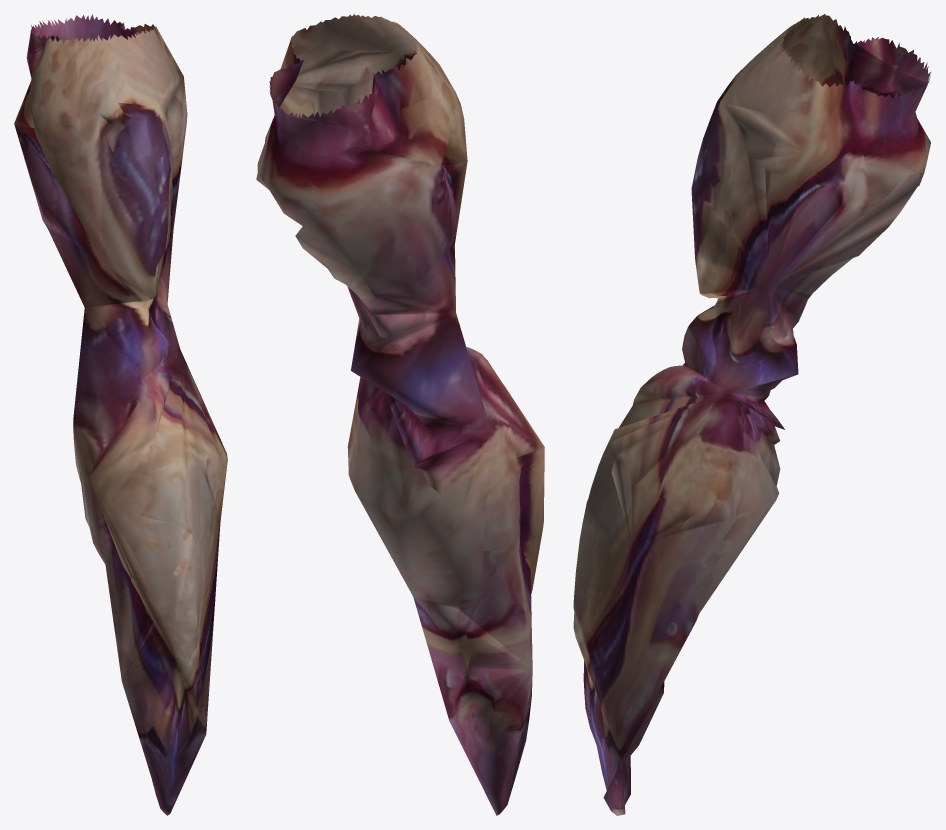
File: Alien_PataFrente.obj
The picture shows the model from 3 angles, left to right: view 1: azimuth 30°, elevation 25°; view 2: azimuth 150°, elevation 25°; view 3: azimuth 270°, elevation 25°; orthographic projection. The views are drawn at different scales.
Parts seen in each view (by area): view 1: PataFrente; view 2: PataFrente; view 3: PataFrente.
Part boxes in pixels (x1,y1,x2,y2): PataFrente: [14, 14, 227, 815]; PataFrente: [256, 14, 544, 815]; PataFrente: [573, 14, 930, 815].
Bounding box in the file's own units: 0.1198 × 0.5157 × 0.2103.
